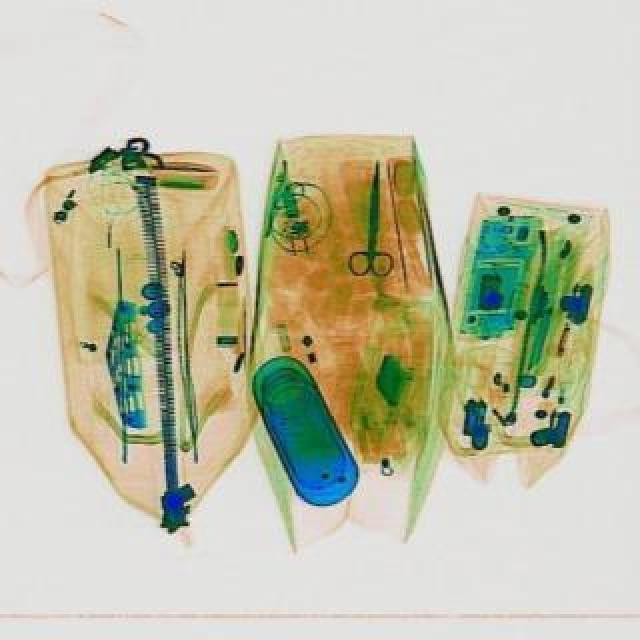pliers: (350, 156, 402, 280)
